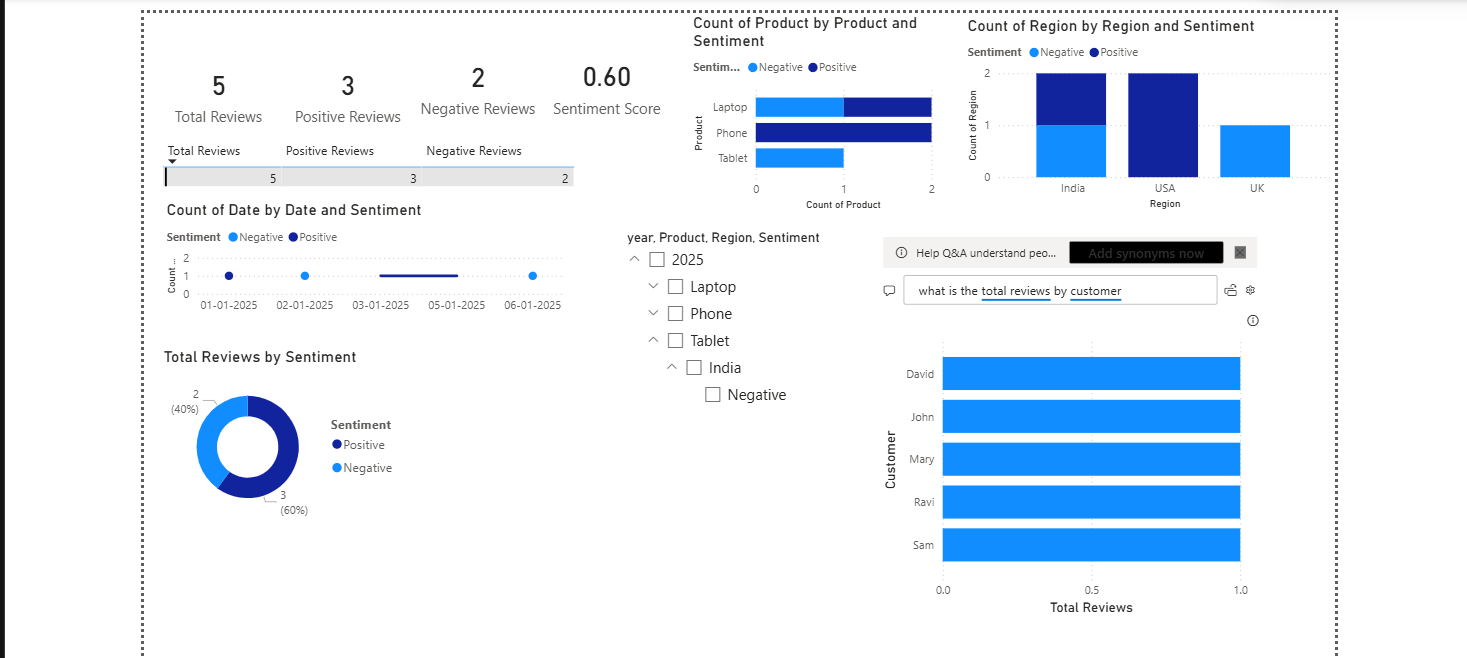

The dashboard page shown, as its layout file describes it:
{"tool":"powerbi","page":{"name":"Page 1","canvas":[1280,720],"ordinal":0},"visuals":[{"type":"card","fields":{"Values":["Reviews.Total Reviews"]},"box":[10,0,140,172],"z":0},{"type":"card","fields":{"Values":["Reviews.Positive Reviews"]},"box":[150,0,138,172],"z":1000},{"type":"card","fields":{"Values":["Reviews.Negative Reviews"]},"box":[288,0,140,156],"z":2000},{"type":"card","fields":{"Values":["Reviews.Sentiment Score"]},"box":[428,4,140,148],"z":3000},{"type":"tableEx","fields":{"Values":["Reviews.Total Reviews","Reviews.Positive Reviews","Reviews.Negative Reviews"]},"box":[14,132,454,84],"z":4000},{"type":"donutChart","fields":{"Category":["Reviews.Sentiment"],"Y":["Reviews.Total Reviews"]},"box":[16,360,272,194],"z":5000},{"type":"barChart","fields":{"Category":["Reviews.Product"],"Y":["CountNonNull(Reviews.Product)"],"Series":["Reviews.Sentiment"]},"box":[586,0,270,216],"z":6000},{"type":"lineChart","fields":{"Category":["Reviews.Date"],"Y":["CountNonNull(Reviews.Date)"],"Series":["Reviews.Sentiment"]},"box":[20,202,442,130],"z":7000},{"type":"columnChart","fields":{"Series":["Reviews.Sentiment"],"Y":["CountNonNull(Reviews.Region)"],"Category":["Reviews.Region"]},"box":[880,4,400,212],"z":8000},{"type":"slicer","fields":{"Values":["Reviews.year","Reviews.Product","Reviews.Region","Reviews.Sentiment"]},"box":[506,228,350,208],"z":8001},{"type":"qnaVisual","box":[786,228,420,438],"z":8002}]}

Visuals, with their boxes on the page's 1280x720 design canvas (x1, y1, x2, y2). These are canvas units, not pixel positions in the 1467x658 screenshot, which may show the page scaled, cropped or inside an application window:
card - Reviews.Total Reviews: 10 0 150 172
card - Reviews.Positive Reviews: 150 0 288 172
card - Reviews.Negative Reviews: 288 0 428 156
card - Reviews.Sentiment Score: 428 4 568 152
tableEx - Reviews.Total Reviews x Reviews.Positive Reviews: 14 132 468 216
donutChart - Reviews.Sentiment x Reviews.Total Reviews: 16 360 288 554
barChart - Reviews.Product x CountNonNull(Reviews.Product): 586 0 856 216
lineChart - Reviews.Date x CountNonNull(Reviews.Date): 20 202 462 332
columnChart - Reviews.Sentiment x CountNonNull(Reviews.Region): 880 4 1280 216
slicer - Reviews.year x Reviews.Product: 506 228 856 436
qnaVisual: 786 228 1206 666
